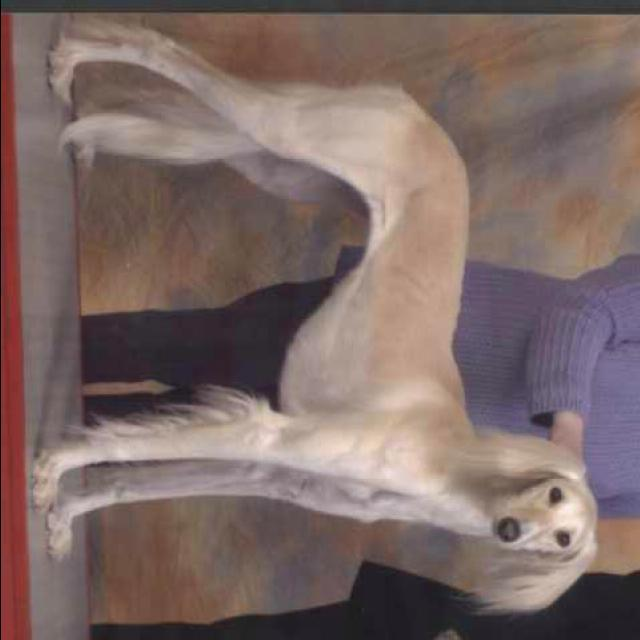saluki: (26, 23, 602, 613)
